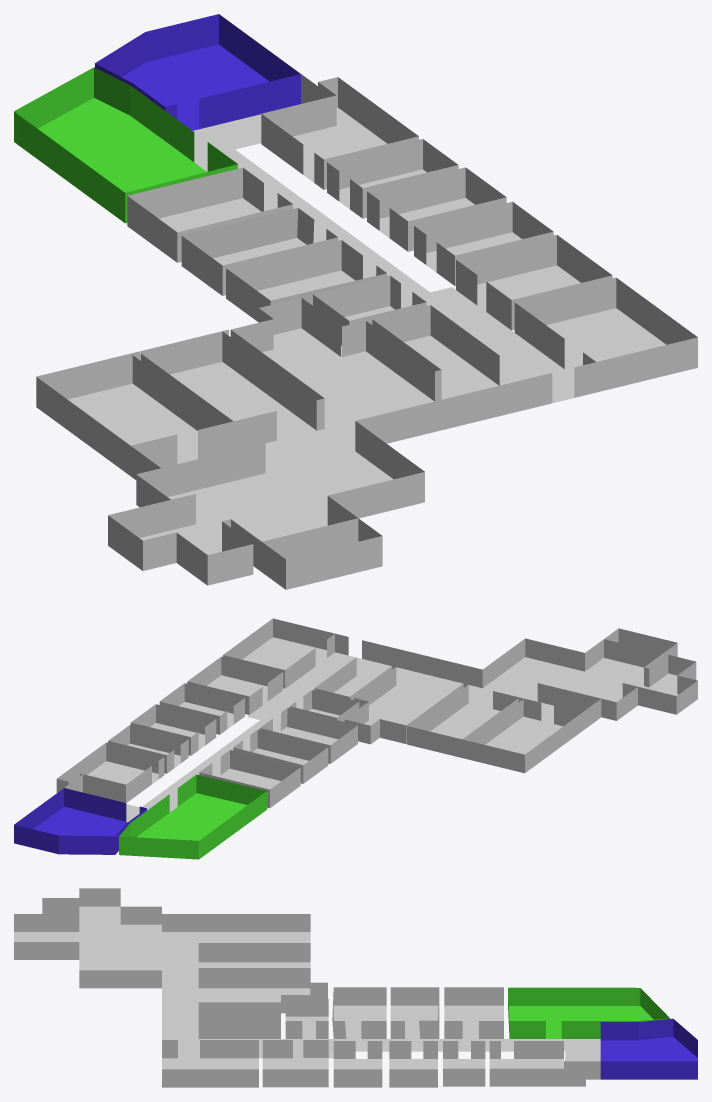
File: plan_manu(texture).glb
The picture shows the model from 3 angles, top to bottom: view 1: azimuth 30°, elevation 25°; view 2: azimuth 150°, elevation 25°; view 3: azimuth 270°, elevation 25°; orthographic projection. The views are drawn at different scales.
Parts seen in each view (by area): view 1: Batiment, Python/23, Salle de pause, Unity/56, C++/25, REACT/27, PHP/26, Figma/54, Blender/53, Photoshop/55, Stockage; view 2: Batiment, Python/23, Salle de pause, Unity/56, C++/25, REACT/27, PHP/26, Blender/53, Figma/54, Photoshop/55, Stockage; view 3: Batiment, Python/23, Salle de pause, Unity/56, C++/25, REACT/27, PHP/26, Blender/53, Figma/54, Stockage, Photoshop/55.
Part boxes in pixels (box(x1,y1,x2,y2)): Batiment: box(36, 74, 697, 589); Python/23: box(14, 67, 237, 223); Salle de pause: box(95, 14, 300, 130); Unity/56: box(261, 77, 418, 189); C++/25: box(127, 167, 292, 262); REACT/27: box(226, 240, 386, 321); PHP/26: box(181, 208, 337, 295); Figma/54: box(367, 167, 506, 251); Blender/53: box(414, 201, 553, 285); Photoshop/55: box(327, 139, 458, 218); Stockage: box(313, 275, 426, 345); Batiment: box(64, 618, 697, 826); Python/23: box(119, 774, 267, 859); Salle de pause: box(14, 788, 146, 854); Unity/56: box(56, 742, 164, 802); C++/25: box(199, 750, 300, 808); REACT/27: box(259, 708, 357, 763); PHP/26: box(233, 729, 328, 783); Blender/53: box(159, 683, 244, 734); Figma/54: box(130, 704, 216, 755); Photoshop/55: box(108, 725, 188, 773); Stockage: box(289, 690, 359, 721); Batiment: box(14, 888, 600, 1087); Python/23: box(508, 987, 670, 1038); Salle de pause: box(600, 1018, 697, 1079); Unity/56: box(489, 1041, 585, 1086); C++/25: box(444, 987, 503, 1038); REACT/27: box(332, 987, 386, 1038); PHP/26: box(390, 987, 439, 1038); Blender/53: box(333, 1041, 382, 1087); Figma/54: box(389, 1041, 437, 1087); Stockage: box(285, 998, 328, 1038); Photoshop/55: box(443, 1041, 485, 1086).
Bounding box in the file's own units: 66.45 × 3.24 × 106.
